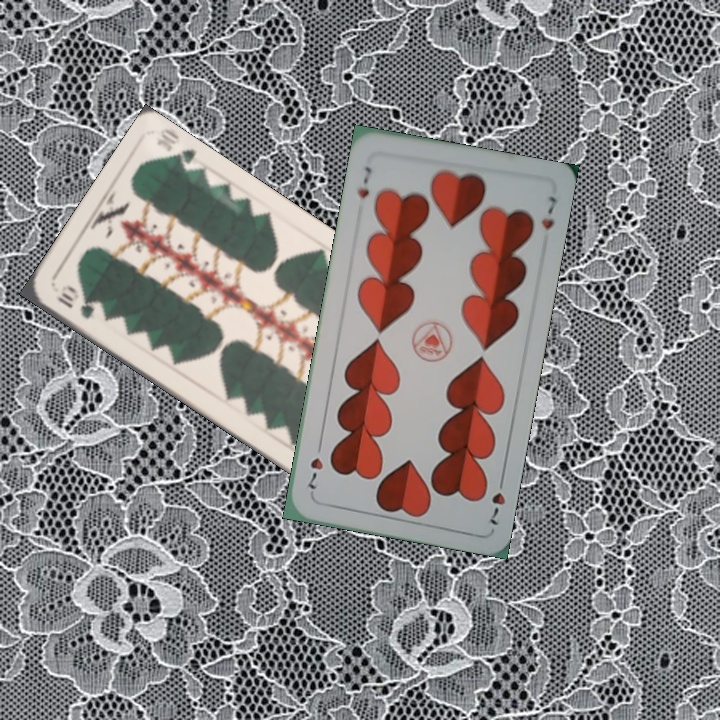G10: (52, 282, 97, 322)
H7: (486, 471, 508, 528), (353, 162, 374, 201)
